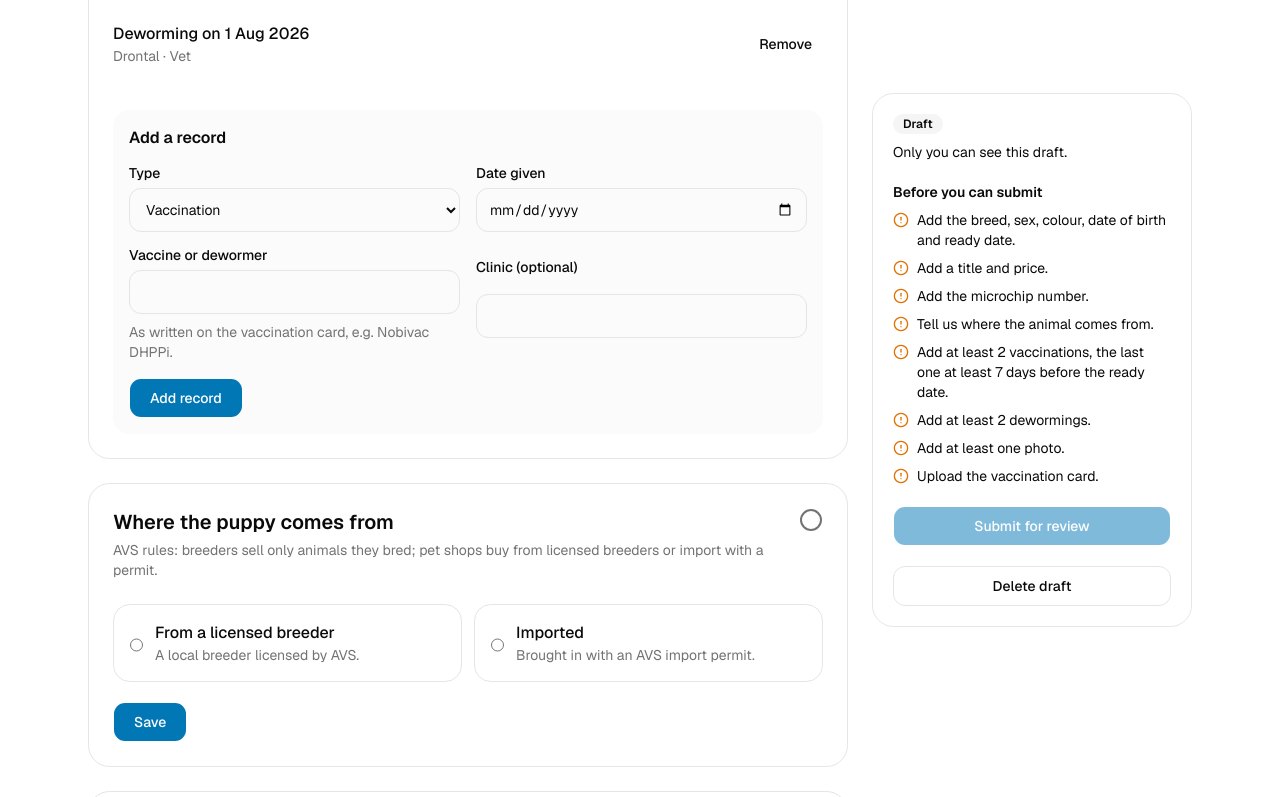
editor forms › add and remove health records
(page scrolled)
Click the button "Add record": (186, 398) 129,378 -> 243,418
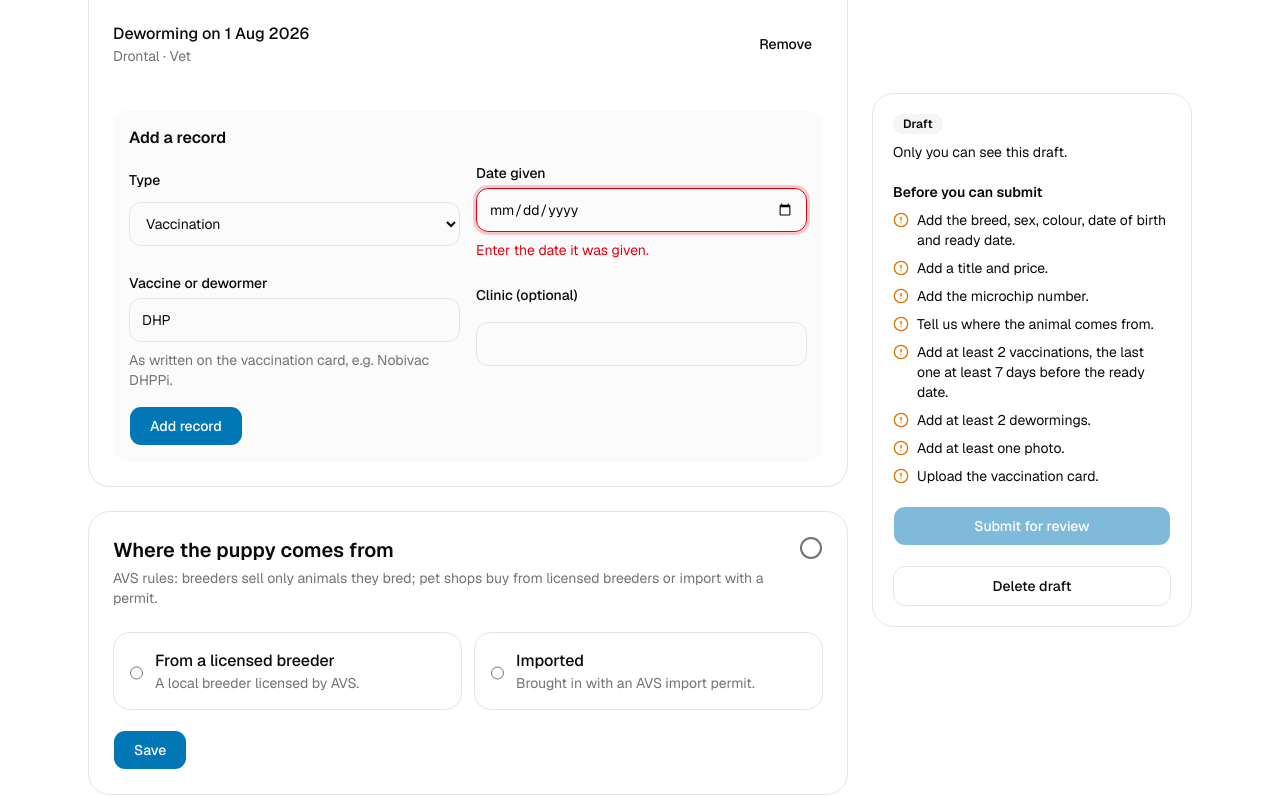
Expected: the text "Enter the date it was given." is shown, 476,241 -> 649,259
Expected: the field labelled "Vaccine or dewormer" holds "DHP", 129,298 -> 460,342
Click the button with aria-label "Remove deworming on 1 aug 2026": (786, 44) 748,28 -> 823,60
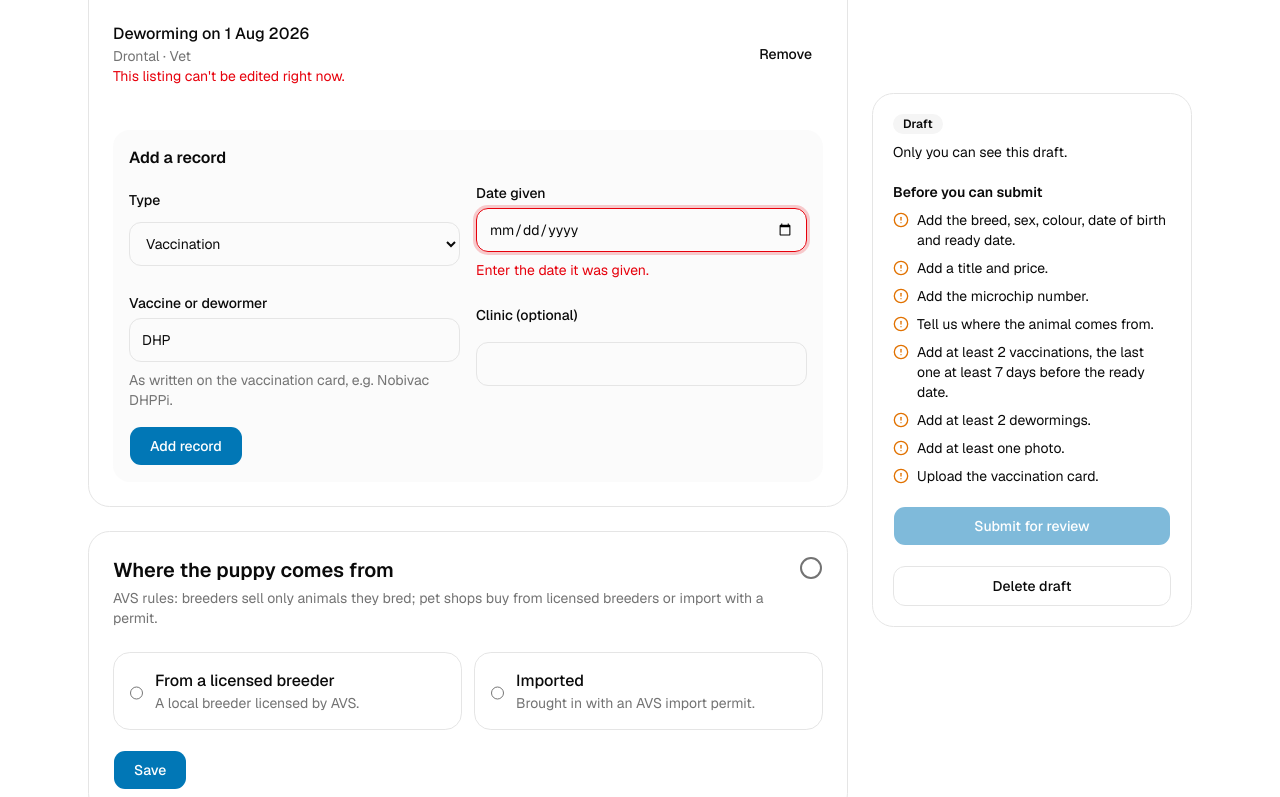
Expected: the text "This listing can't be edited right now." is shown, 113,66 -> 345,86
